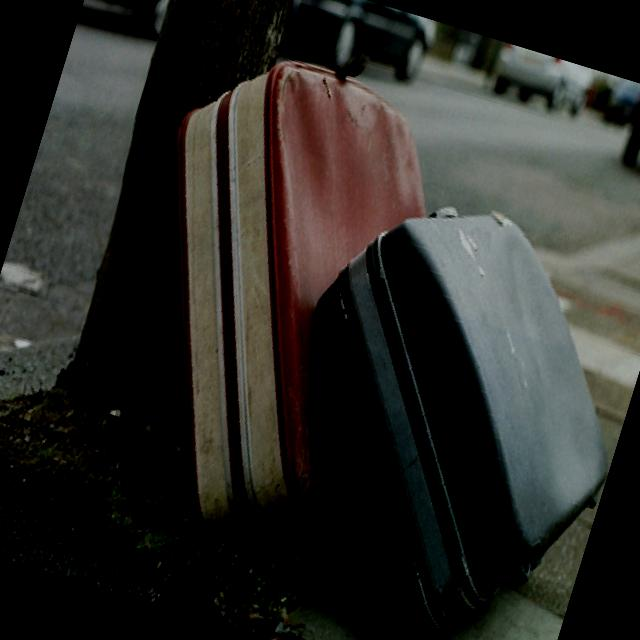Vehicle: (271, 0, 439, 90), (482, 40, 596, 123), (79, 0, 188, 38), (613, 82, 640, 186), (602, 75, 640, 124)
